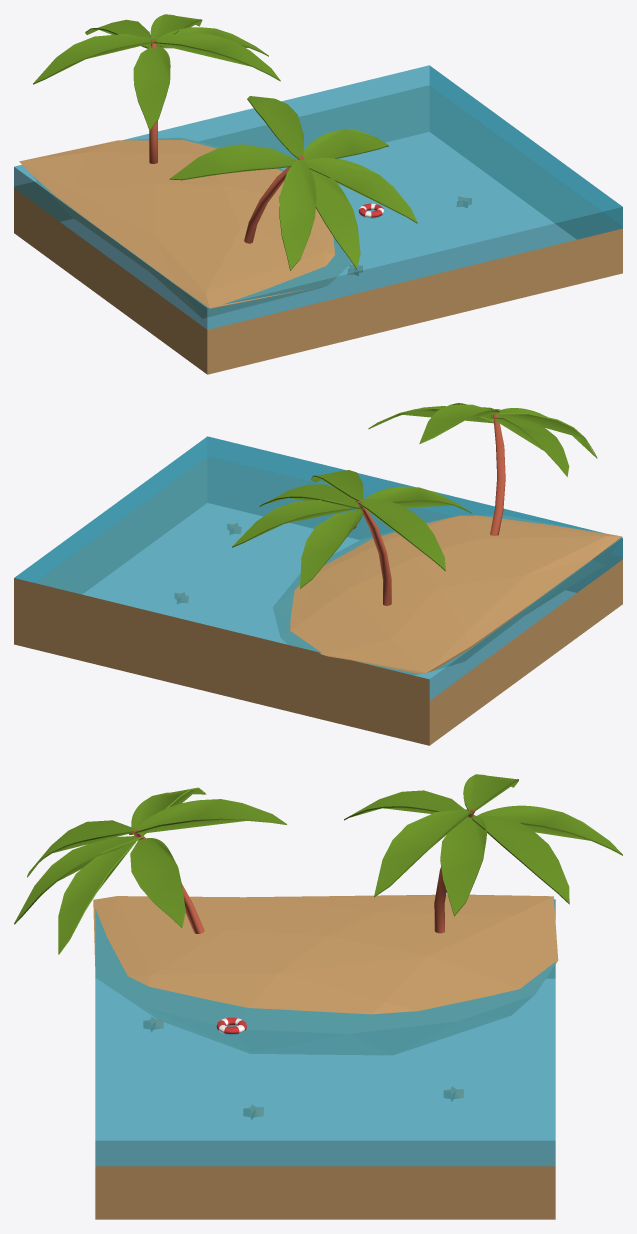
3 renders of one model, top to bottom at view 1: azimuth 30°, elevation 25°; view 2: azimuth 150°, elevation 25°; view 3: azimuth 270°, elevation 25°, orthographic. The views are drawn at different scales.
Parts seen in each view (by area): view 1: Box001; view 2: Box001; view 3: Box001.
Boxes of the visible parts, x1=… form: Box001: x1=14, y1=14, x2=622, y2=374; Box001: x1=14, y1=403, x2=622, y2=745; Box001: x1=14, y1=774, x2=622, y2=1219.
Bounding box in the file's own units: 181 × 83.26 × 193.
